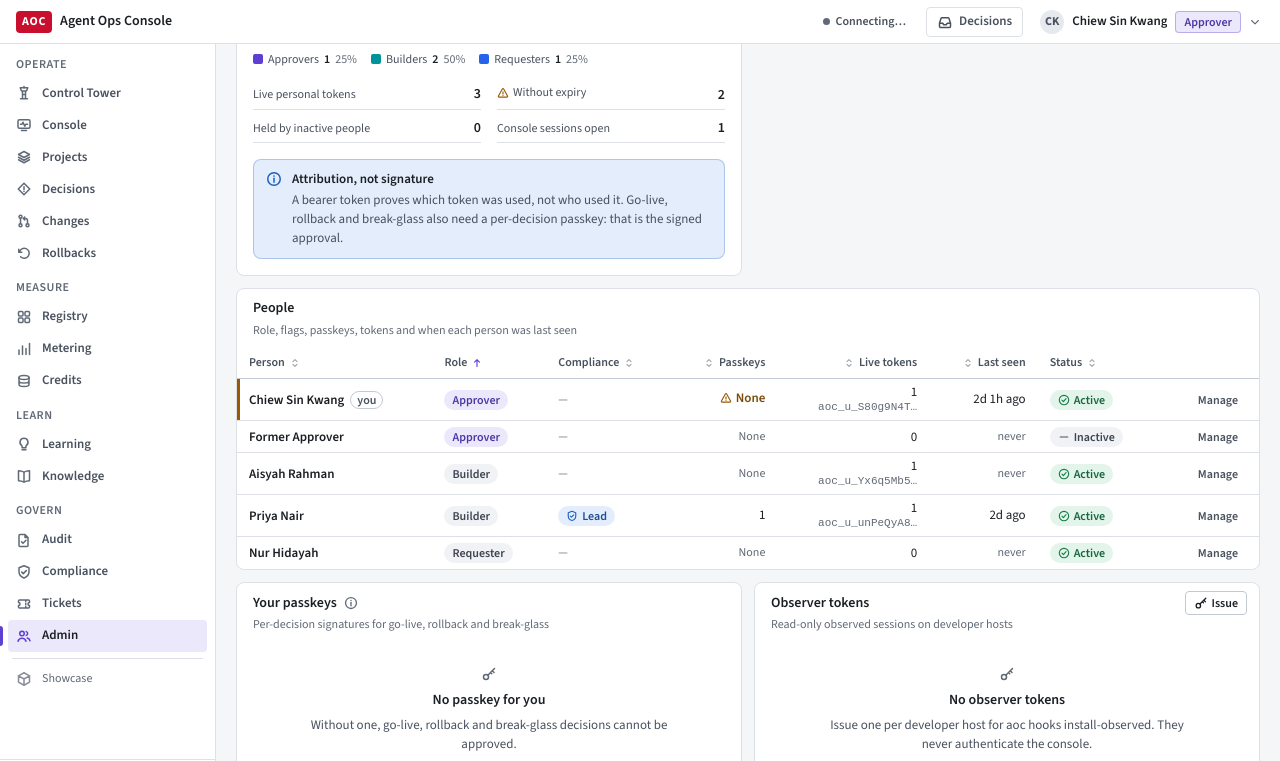
Test case: Admin › Users page › blocks demoting or deactivating the last active Approver
The width and height of the screenshot is (1280, 761).
(page scrolled)
Click the row named "Manage Chiew Sin Kwang": (748, 400) [237,379,1259,421]
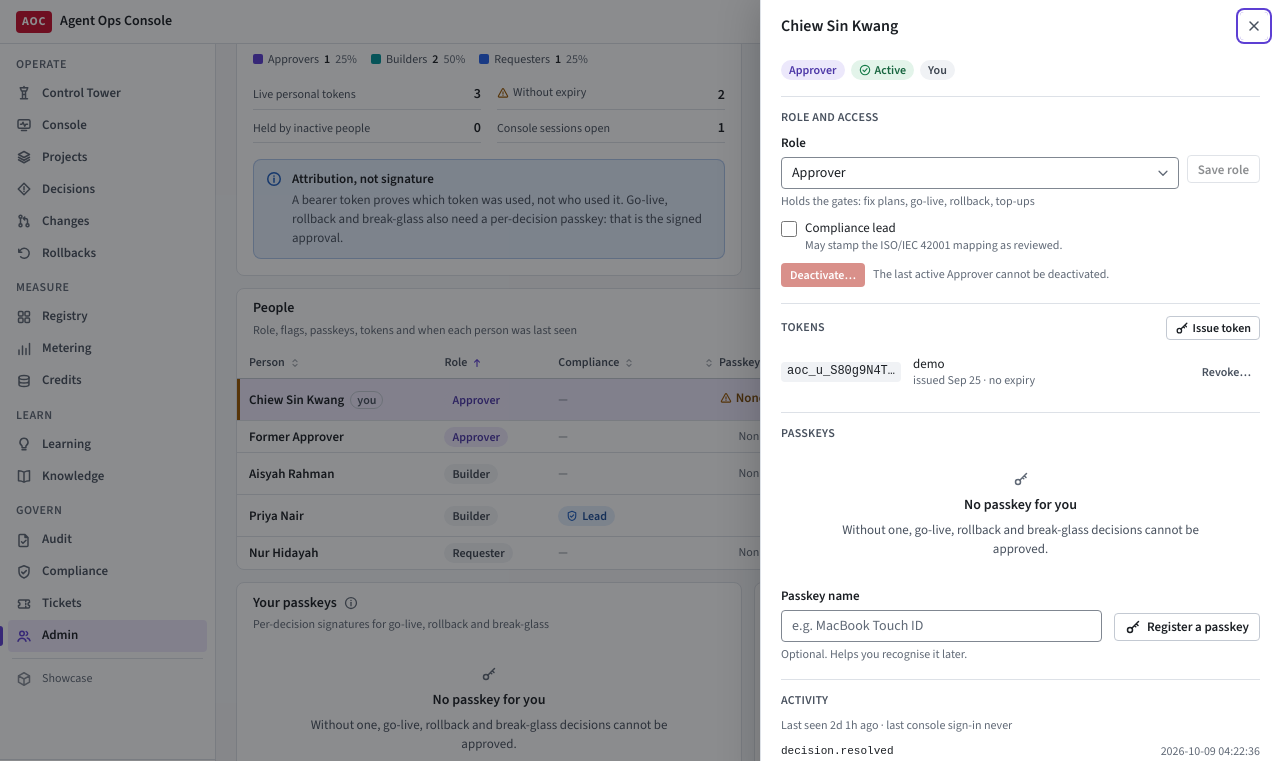
Select "Builder" in the dropdown labelled "Role": (980, 173) [781,157,1179,189]
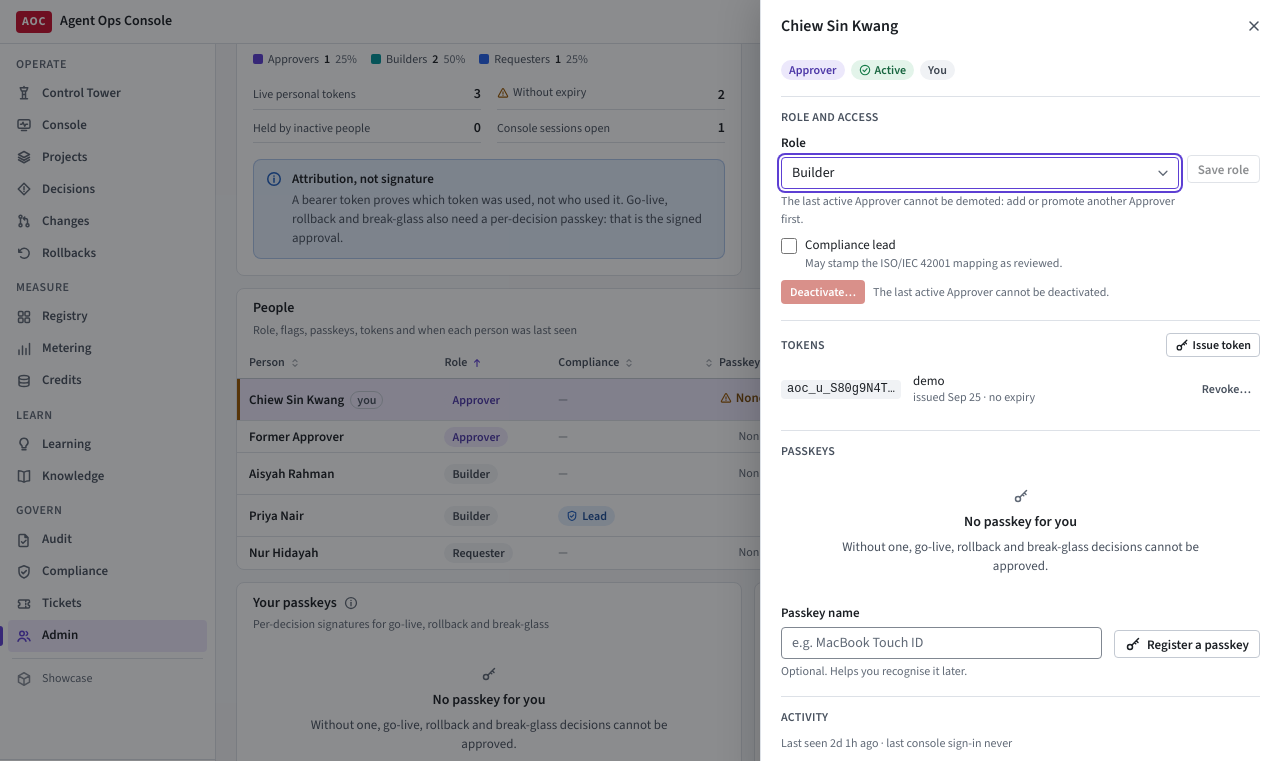
Expected: the button "Save role" is disabled, [1187,155,1260,183]
Expected: the button "Deactivate…" is disabled, [781,280,865,304]
Expected: the text "The last active Approver cannot be demoted" is shown, [781,193,1175,227]
